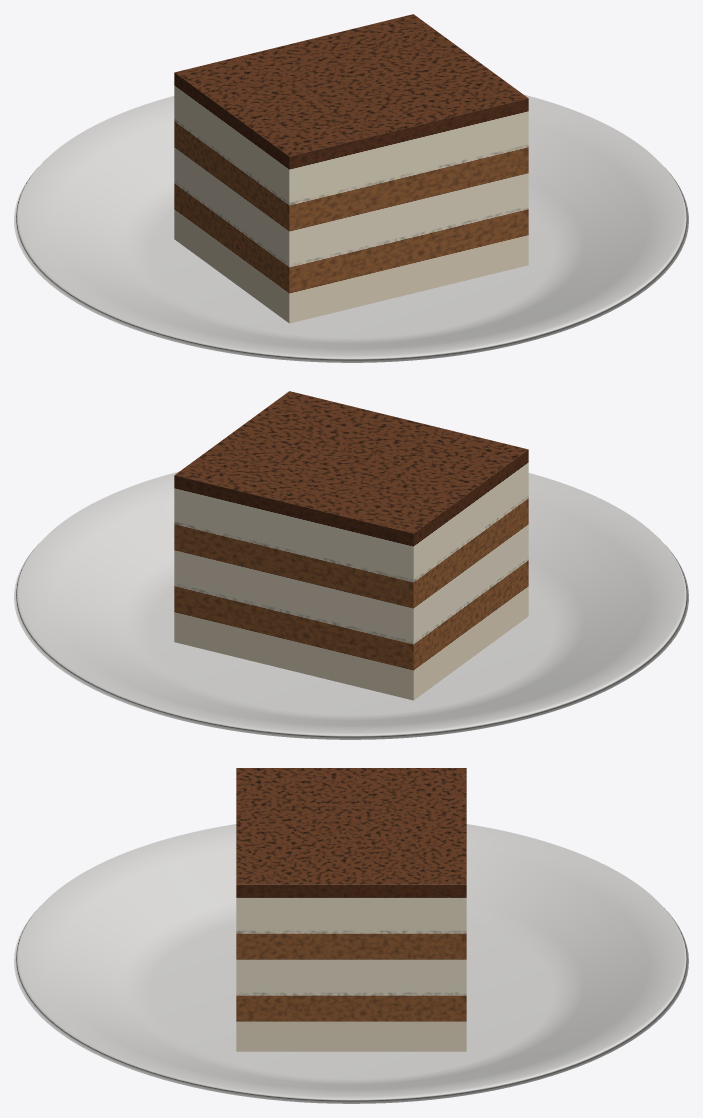
File: tiramisu.glb
The picture shows the model from 3 angles, top to bottom: view 1: azimuth 30°, elevation 25°; view 2: azimuth 150°, elevation 25°; view 3: azimuth 270°, elevation 25°; orthographic projection.
Parts seen in each view (by area): view 1: tiramisu; view 2: tiramisu; view 3: tiramisu.
Part boxes in pixels (left/top/right/bottom): tiramisu: left=14, top=14, right=688, bottom=362; tiramisu: left=14, top=391, right=688, bottom=739; tiramisu: left=14, top=768, right=688, bottom=1103.
Bounding box in the file's own units: 0.22 × 0.0645 × 0.22.
3 materials, 2 textured.
